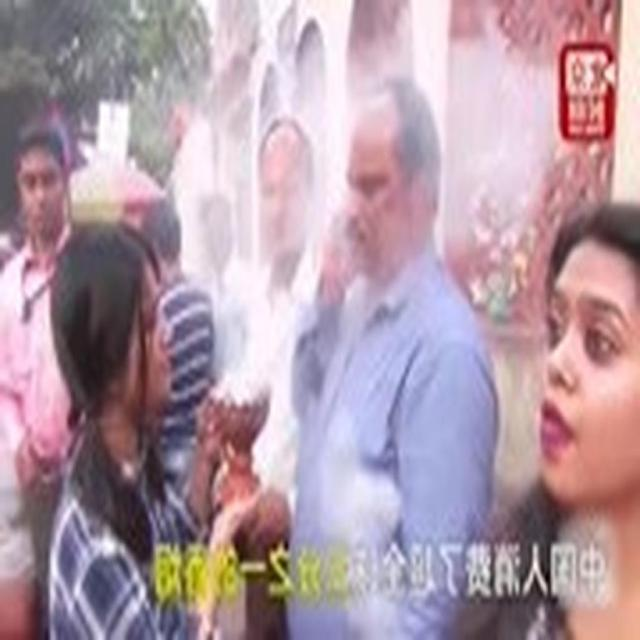smoking: (280, 80, 446, 330)
